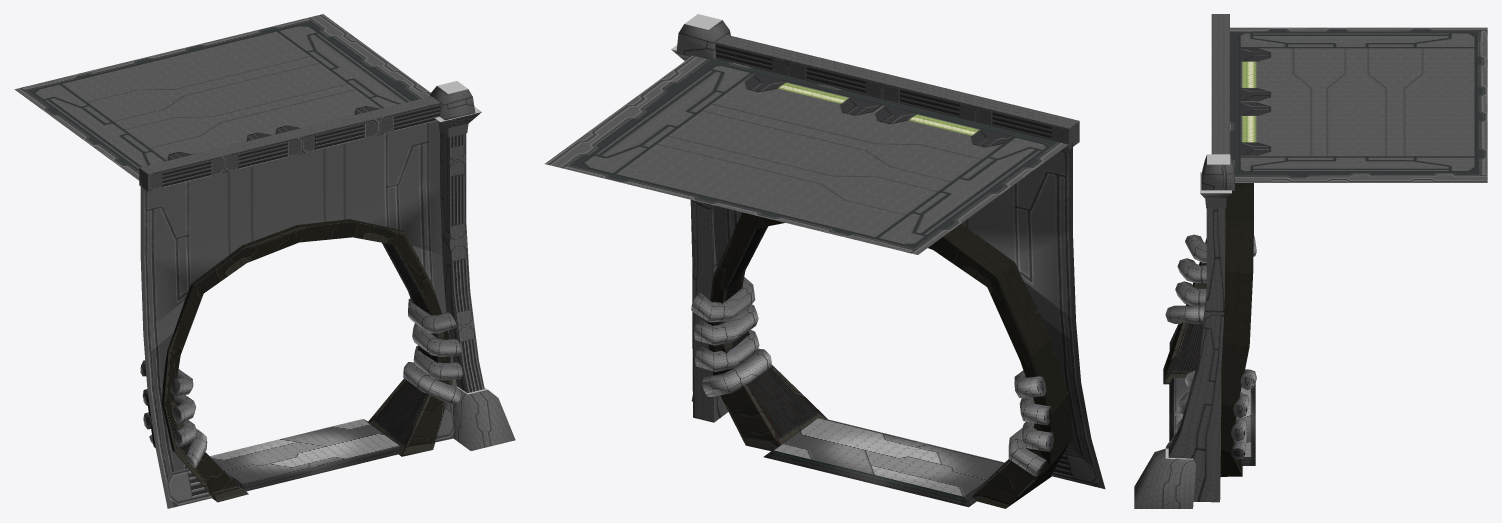
Rendered from Door wall 01.fbx.
3 renders of one model, left to right at view 1: azimuth 30°, elevation 25°; view 2: azimuth 150°, elevation 25°; view 3: azimuth 270°, elevation 25°, orthographic. The views are drawn at different scales.
Visible parts, largest first — view 1: Door wall 01; view 2: Door wall 01; view 3: Door wall 01.
Boxes of the visible parts, box(x1,y1,x2,y2) form: Door wall 01: box(14, 14, 515, 508); Door wall 01: box(545, 14, 1105, 508); Door wall 01: box(1134, 14, 1487, 508).
Bounding box in the file's own units: 428 × 410 × 384.
